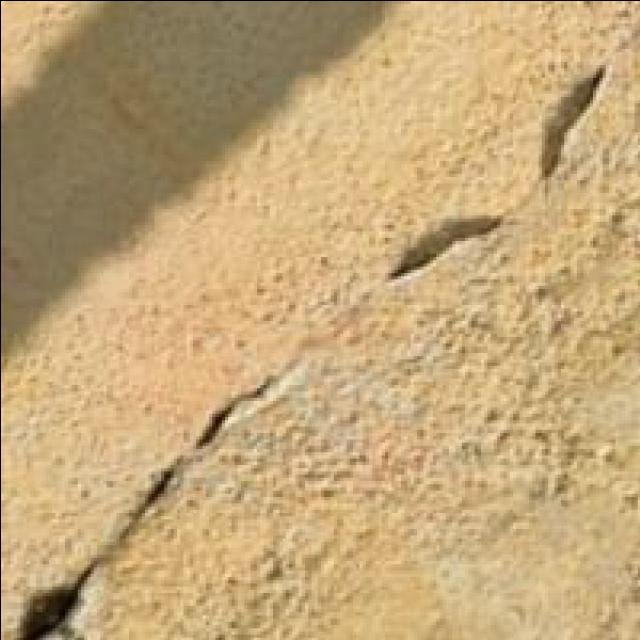SurfaceCrack: (24, 328, 342, 640), (380, 18, 626, 304)
